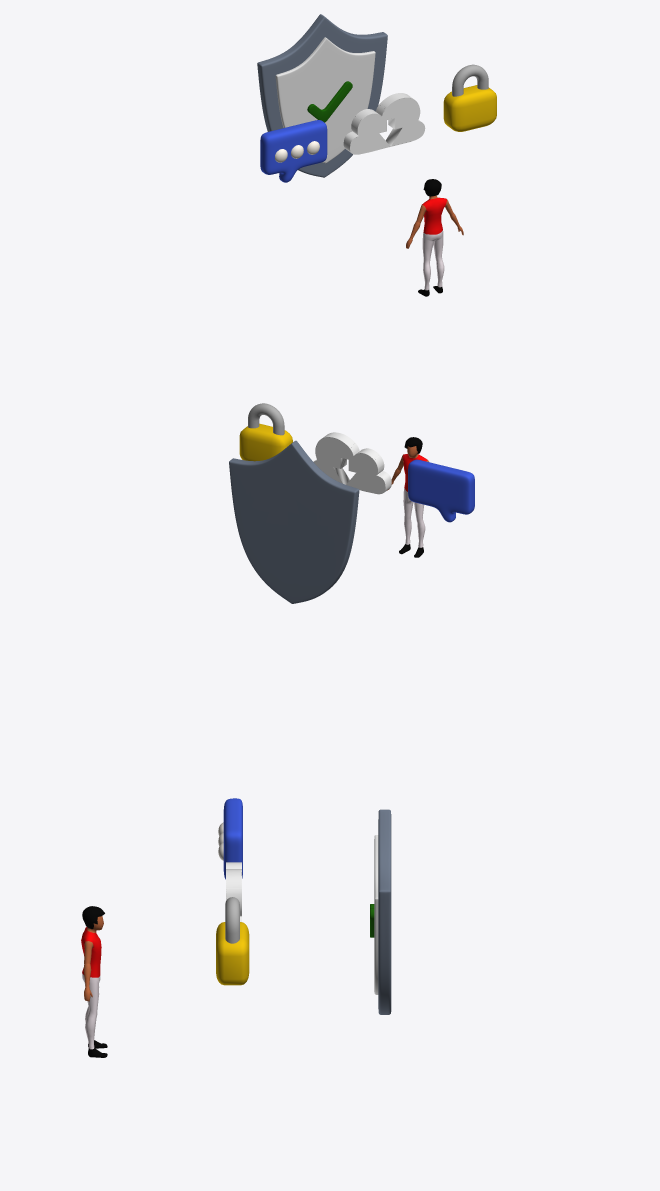
The picture shows the model from 3 angles, top to bottom: view 1: azimuth 30°, elevation 25°; view 2: azimuth 150°, elevation 25°; view 3: azimuth 270°, elevation 25°; orthographic projection. The views are drawn at different scales.
Parts seen in each view (by area): view 1: shield.001_2, shield_1, save__to_cloud, object 4, Torus, corpo.001, Plane.002_0; view 2: shield_1, object 4, save__to_cloud, Torus, corpo.001; view 3: shield_1, Torus, corpo.001, object 4, shield.001_2, save__to_cloud.
Boxes of the visible parts, x1,y1,x2,y2 form: shield.001_2: [275, 37, 375, 163]; shield_1: [257, 14, 387, 177]; save__to_cloud: [343, 93, 425, 154]; object 4: [260, 120, 327, 182]; Torus: [443, 64, 496, 131]; corpo.001: [406, 195, 463, 296]; Plane.002_0: [307, 81, 352, 122]; shield_1: [229, 440, 359, 603]; object 4: [408, 459, 474, 522]; save__to_cloud: [313, 432, 391, 494]; Torus: [239, 403, 292, 461]; corpo.001: [387, 446, 428, 557]; shield_1: [378, 809, 391, 1014]; Torus: [216, 897, 249, 985]; corpo.001: [81, 916, 107, 1057]; object 4: [223, 798, 242, 879]; shield.001_2: [374, 835, 378, 994]; save__to_cloud: [226, 862, 241, 921].
Size of the model in its own units: 5.16 by 2.6 by 5.8.
13 materials, 1 textured.
